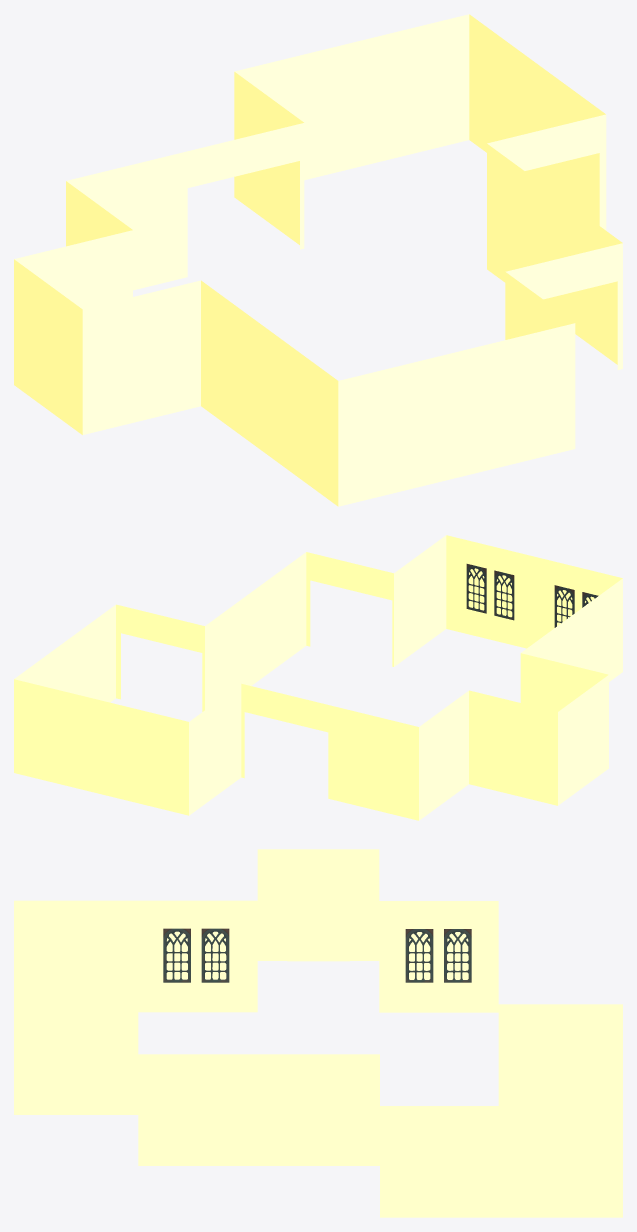
Rendered from Homeworld_Interior_Md_Room_K_Filling_01_Vo.fbx.
3 renders of one model, top to bottom at view 1: azimuth 30°, elevation 25°; view 2: azimuth 150°, elevation 25°; view 3: azimuth 270°, elevation 25°, orthographic. The views are drawn at different scales.
Parts seen in each view (by area): view 1: Homeworld_Interior_Md_Room_K_Filling_01_Vo; view 2: Homeworld_Interior_Md_Room_K_Filling_01_Vo; view 3: Homeworld_Interior_Md_Room_K_Filling_01_Vo.
Boxes of the visible parts, box(x1,y1,x2,y2) form: Homeworld_Interior_Md_Room_K_Filling_01_Vo: box(14, 14, 622, 506); Homeworld_Interior_Md_Room_K_Filling_01_Vo: box(14, 535, 622, 820); Homeworld_Interior_Md_Room_K_Filling_01_Vo: box(14, 849, 622, 1217).
Size of the model in its own units: 24.85 by 5.04 by 24.91.
